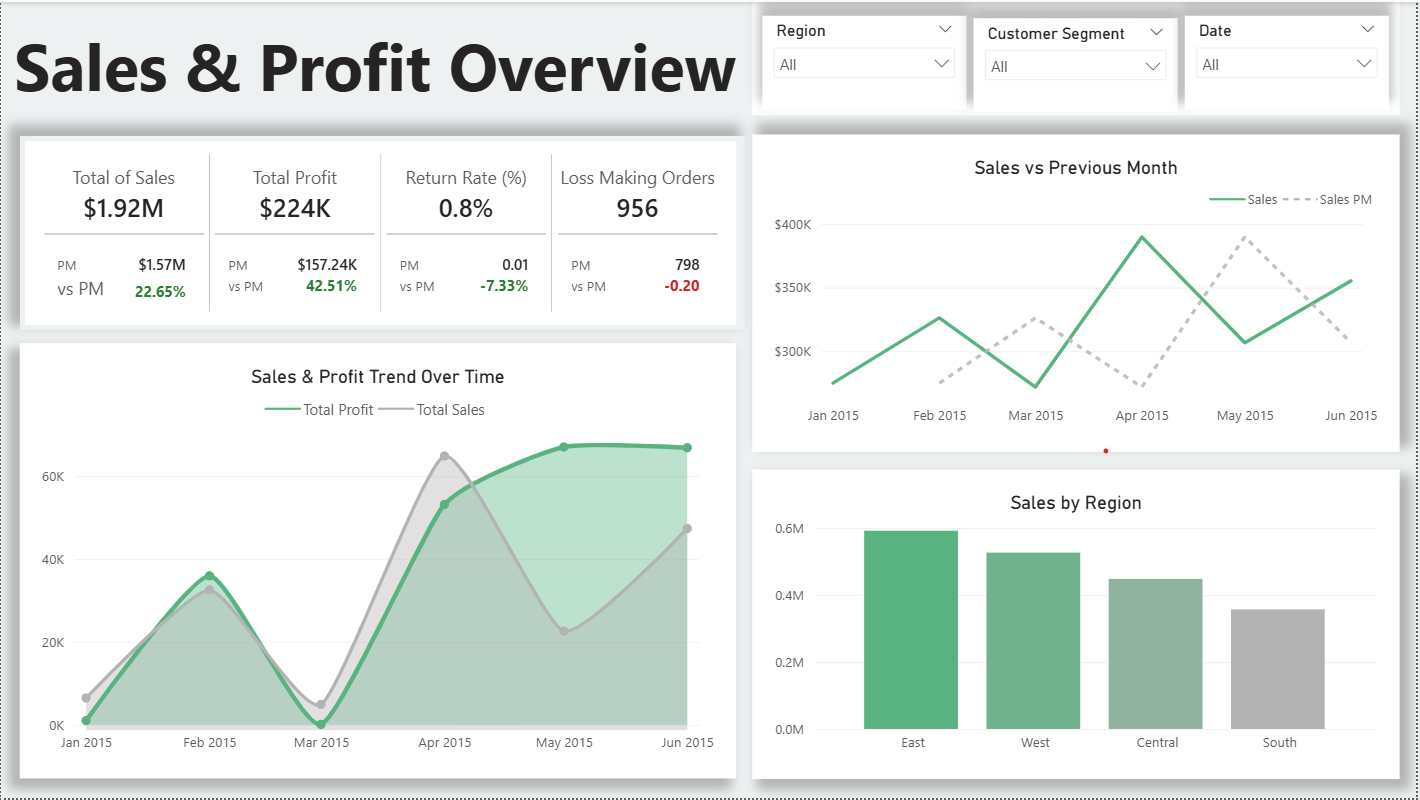

The dashboard page shown, as its layout file describes it:
{"tool":"powerbi","page":{"name":"Sales & Profit Overview","canvas":[1280,720],"ordinal":0},"visuals":[{"type":"textbox","box":[679.5,0,585.8,102.4],"z":0},{"type":"cardVisual","fields":{"Data":["Sum(Orders.Sales)","Orders.Total Profit","Orders.Return Rate (%)","Orders.Loss Making Orders"]},"box":[17.5,122.5,651.2,176.2],"z":1000},{"type":"lineChart","title":"Sales vs Previous Month","fields":{"Y":["Sum(Orders.Sales)","Measures (2).Sales PM"],"Category":["Date Table.Start of month"]},"box":[679.5,119.7,585.8,287.1],"z":2000},{"type":"slicer","fields":{"Values":["Orders.Region"]},"box":[688.2,13,184.7,85.1],"z":3000},{"type":"slicer","fields":{"Values":["Orders.Customer Segment"]},"box":[880.1,14.4,184.7,85.1],"z":4000},{"type":"lineChart","title":"Sales & Profit Trend Over Time ","fields":{"Category":["Orders.Order YearMonth.Variation.Date Hierarchy.Year","Orders.Order YearMonth.Variation.Date Hierarchy.Month"],"Y":["Orders.Total Profit"],"Y2":["Orders.Total Sales"]},"box":[17.3,308.8,647.8,393.9],"z":5000},{"type":"columnChart","title":"Sales by Region","fields":{"Category":["Orders.Region"],"Y":["Orders.Total Sales"]},"box":[679.5,422.7,585.8,279.9],"z":6000},{"type":"slicer","fields":{"Values":["Date Table.Date"]},"box":[1070.5,13,184.7,85.1],"z":7000},{"type":"textbox","box":[7.2,13,672.3,102.4],"z":8000}]}

Visuals, with their boxes in screenshot pixels (x1, y1, x2, y2), scaled from the page's 1280x720 canvas onto the 1420x800 screenshot:
textbox: 754/0/1404/114
cardVisual - Sum(Orders.Sales) x Orders.Total Profit: 19/136/742/332
"Sales vs Previous Month" lineChart: 754/133/1404/452
slicer - Orders.Region: 763/14/968/109
slicer - Orders.Customer Segment: 976/16/1181/111
"Sales & Profit Trend Over Time " lineChart: 19/343/738/781
"Sales by Region" columnChart: 754/470/1404/781
slicer - Date Table.Date: 1188/14/1392/109
textbox: 8/14/754/128
